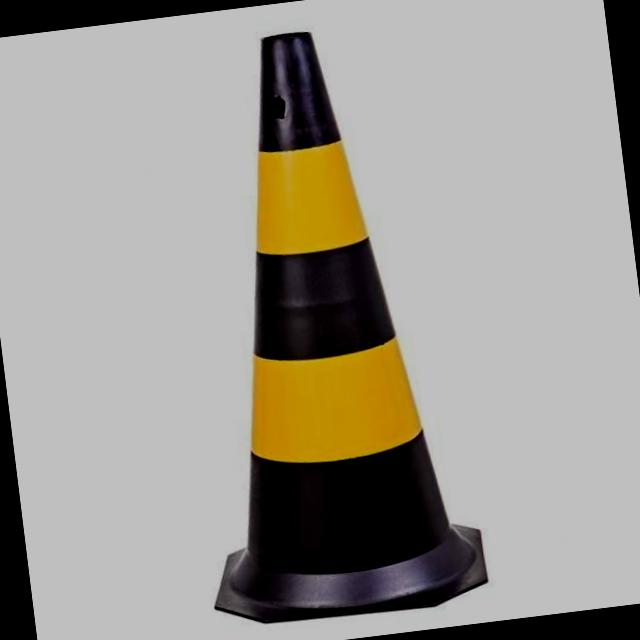cone: (135, 0, 504, 640)
